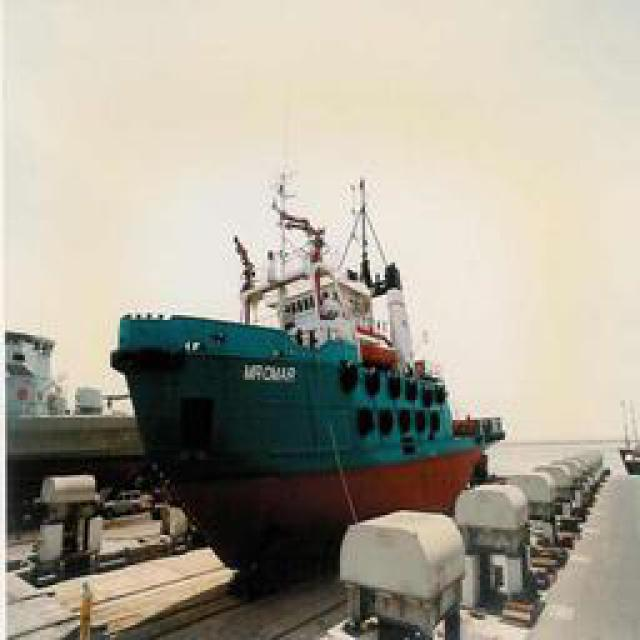Ship: (112, 154, 500, 567)
